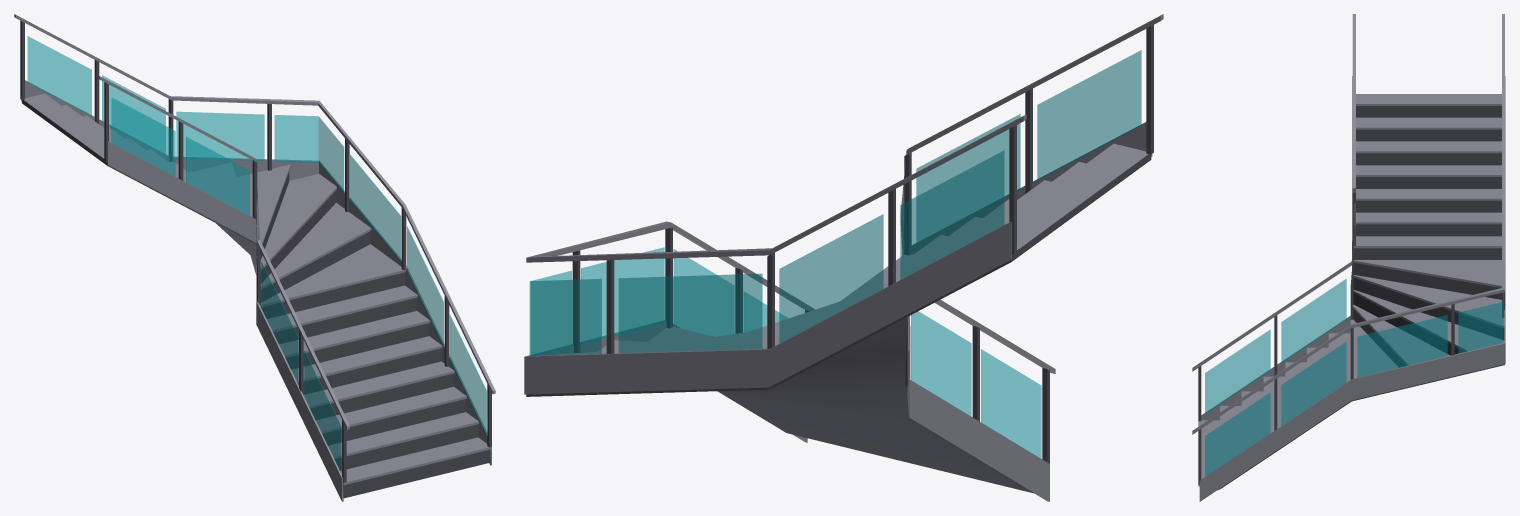
The model's file is glassPanelStairs_corner.glb.
The picture shows the model from 3 angles, left to right: view 1: azimuth 30°, elevation 25°; view 2: azimuth 150°, elevation 25°; view 3: azimuth 270°, elevation 25°; orthographic projection. The views are drawn at different scales.
Parts seen in each view (by area): view 1: Stair_glassPanels_corner; view 2: Stair_glassPanels_corner; view 3: Stair_glassPanels_corner.
Part boxes in pixels (x1,y1,x2,y2): Stair_glassPanels_corner: [14, 14, 495, 501]; Stair_glassPanels_corner: [524, 14, 1163, 501]; Stair_glassPanels_corner: [1192, 14, 1505, 501].
Size of what is drawn, in the model's own units: 4.12 by 5.15 by 4.12.
Materials: 2 (2 with a texture image).
